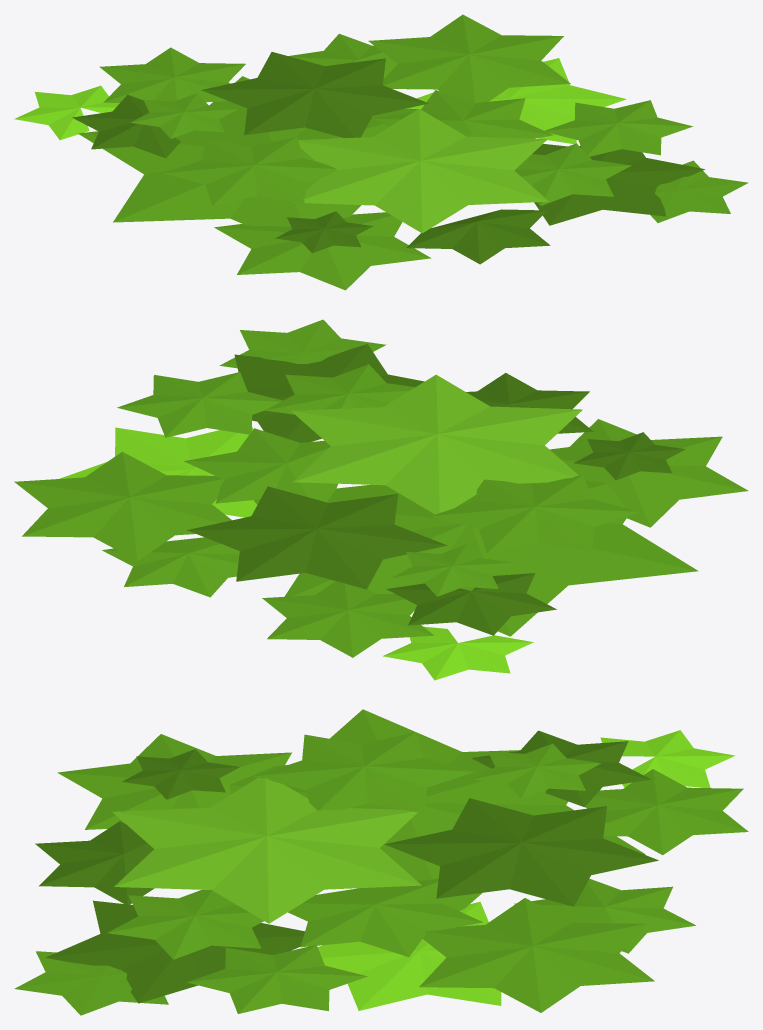
Rendered from Grass.fbx.
3 views of the same model, one above another, from view 1: azimuth 30°, elevation 25°; view 2: azimuth 150°, elevation 25°; view 3: azimuth 270°, elevation 25° (orthographic). The views are drawn at different scales.
Parts seen in each view (by area): view 1: Grass Tile; view 2: Grass Tile; view 3: Grass Tile.
Boxes of the visible parts, left/top/right/bottom form: Grass Tile: left=14, top=14, right=748, bottom=290; Grass Tile: left=14, top=319, right=748, bottom=680; Grass Tile: left=14, top=709, right=748, bottom=1015.
Size of the model in its own units: 1.24 by 0.0606 by 1.24.
